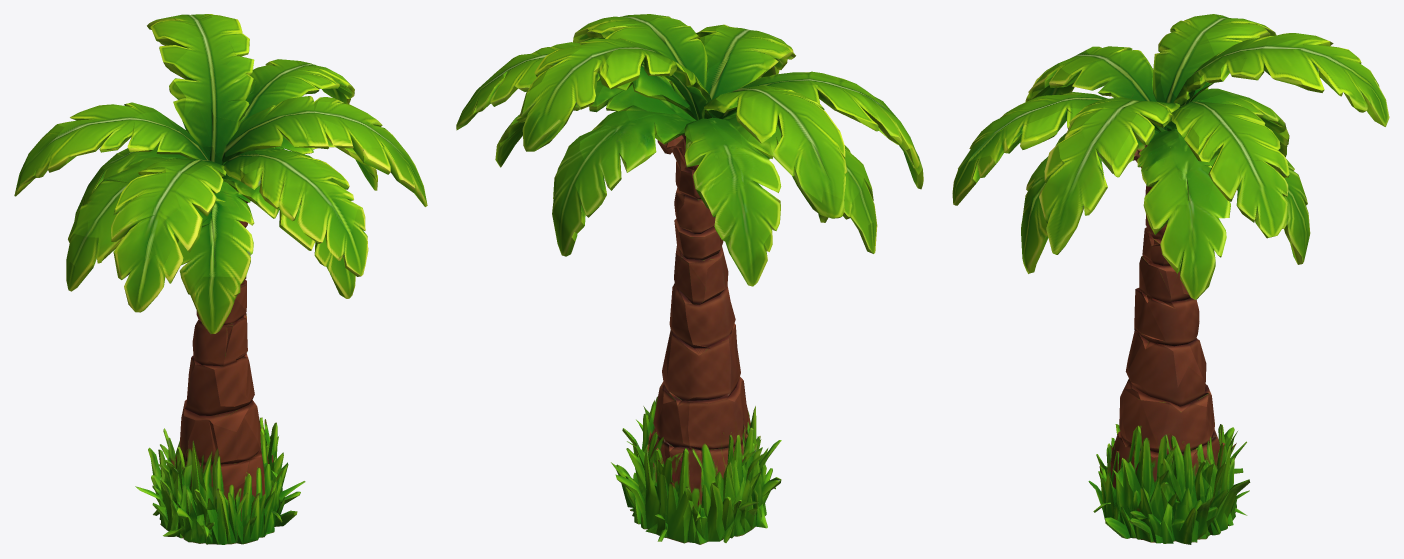
File: palm.glb
3 views of the same model, side by side, from view 1: azimuth 30°, elevation 25°; view 2: azimuth 150°, elevation 25°; view 3: azimuth 270°, elevation 25° (orthographic). The views are drawn at different scales.
Size of the model in its own units: 1.51 by 1.9 by 1.54.
1 material, 1 textured.
